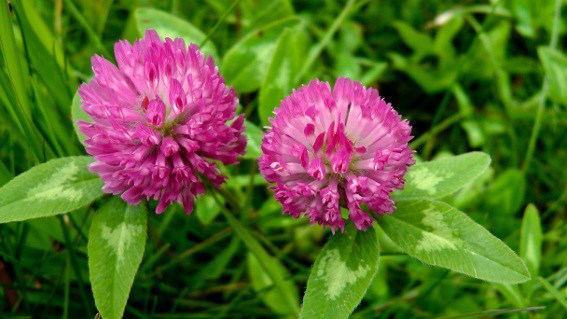clover blossom purple: (76, 28, 250, 218), (258, 75, 417, 236)
